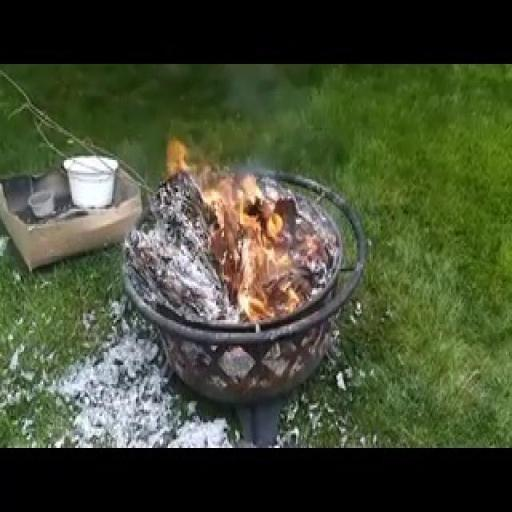smoke: (131, 100, 314, 326)
